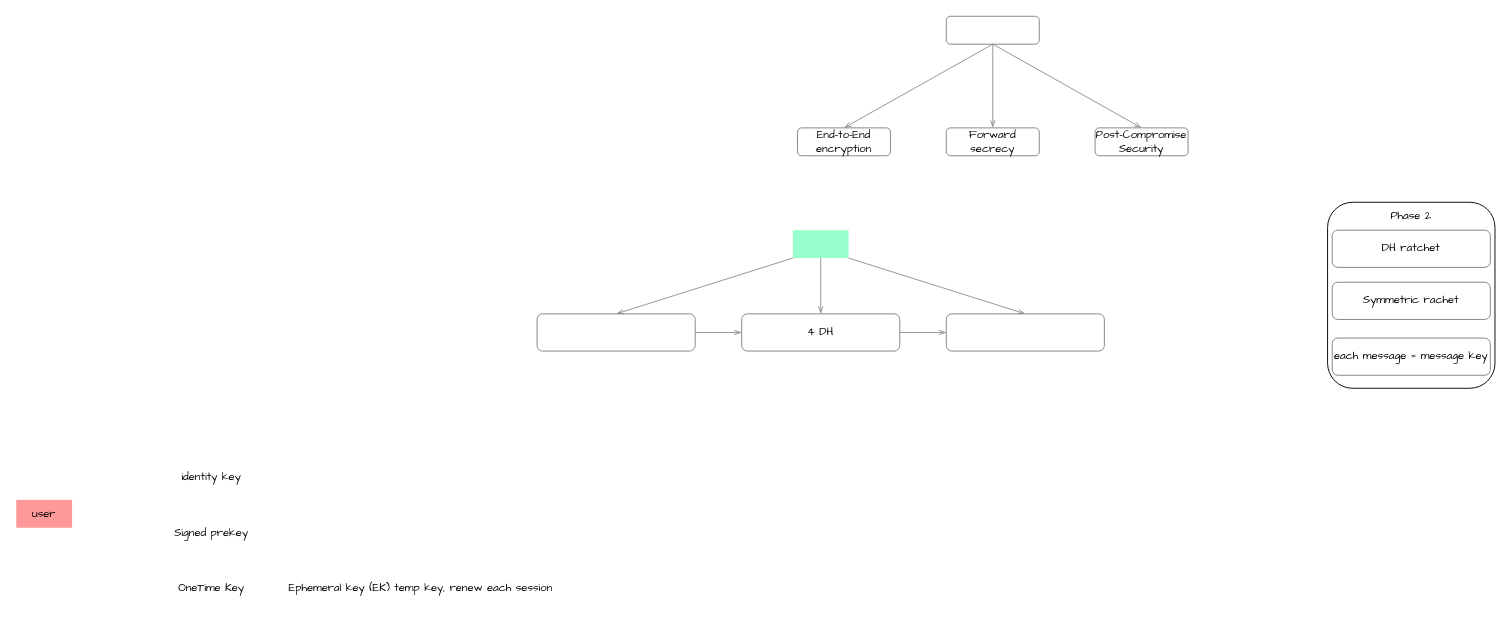
This 1511x618 diagram has some shape labels left out. Here are the shapes that lost their labels. From the top down, the centre of each, then its label:
[992,29]: signal protocol
[820,244]: Phase 1
[615,332]: submit key to server signed, identity, onetime key
[1024,332]: send first message
